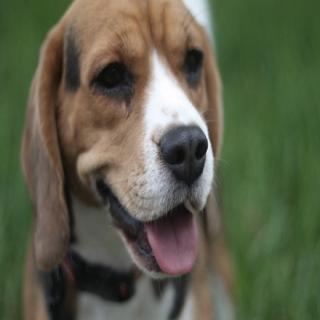dog: (18, 0, 232, 283)
nose: (152, 121, 211, 181)
